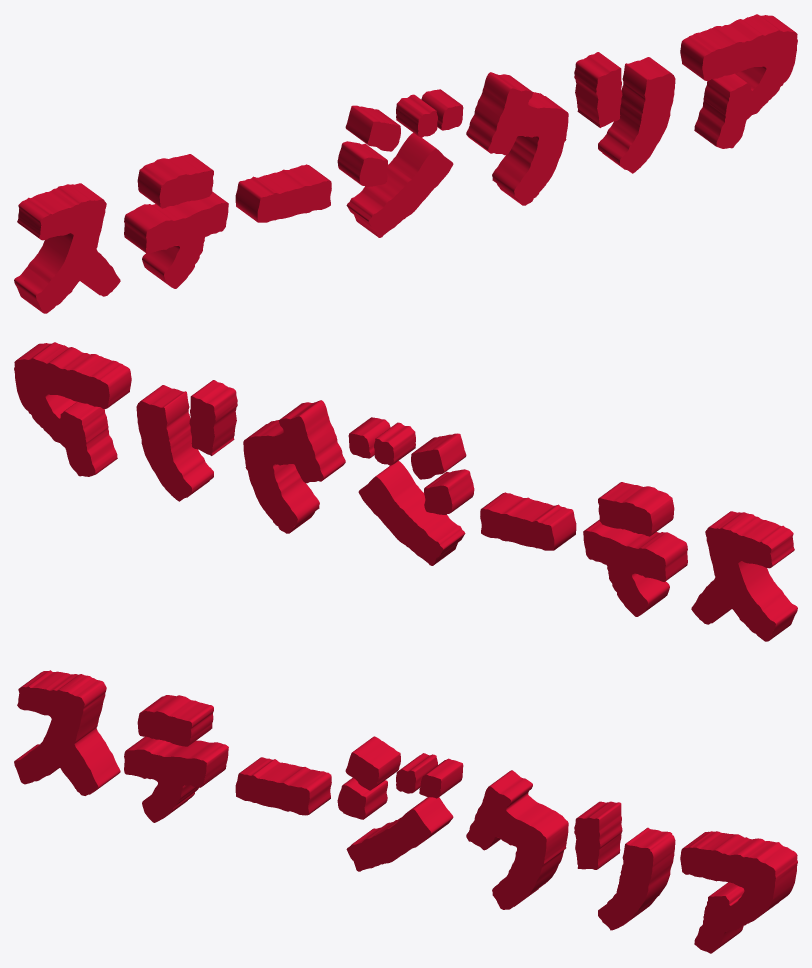
The model's file is Clear.obj.
The picture shows the model from 3 angles, top to bottom: view 1: azimuth 30°, elevation 25°; view 2: azimuth 150°, elevation 25°; view 3: azimuth 330°, elevation 25°; orthographic projection.
Parts seen in each view (by area): view 1: テキスト; view 2: テキスト; view 3: テキスト.
Part boxes in pixels (x1=…): テキスト: x1=14, y1=14, x2=797, y2=313; テキスト: x1=14, y1=342, x2=797, y2=641; テキスト: x1=14, y1=670, x2=797, y2=953.
Size of the model in its own units: 2.4 by 0.3635 by 0.12.
1 material, 1 textured.
